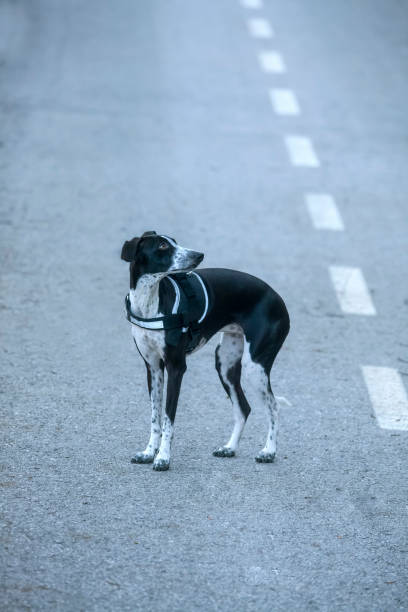kopek: (104, 228, 298, 482)
